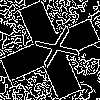X: (25, 25, 80, 74)
